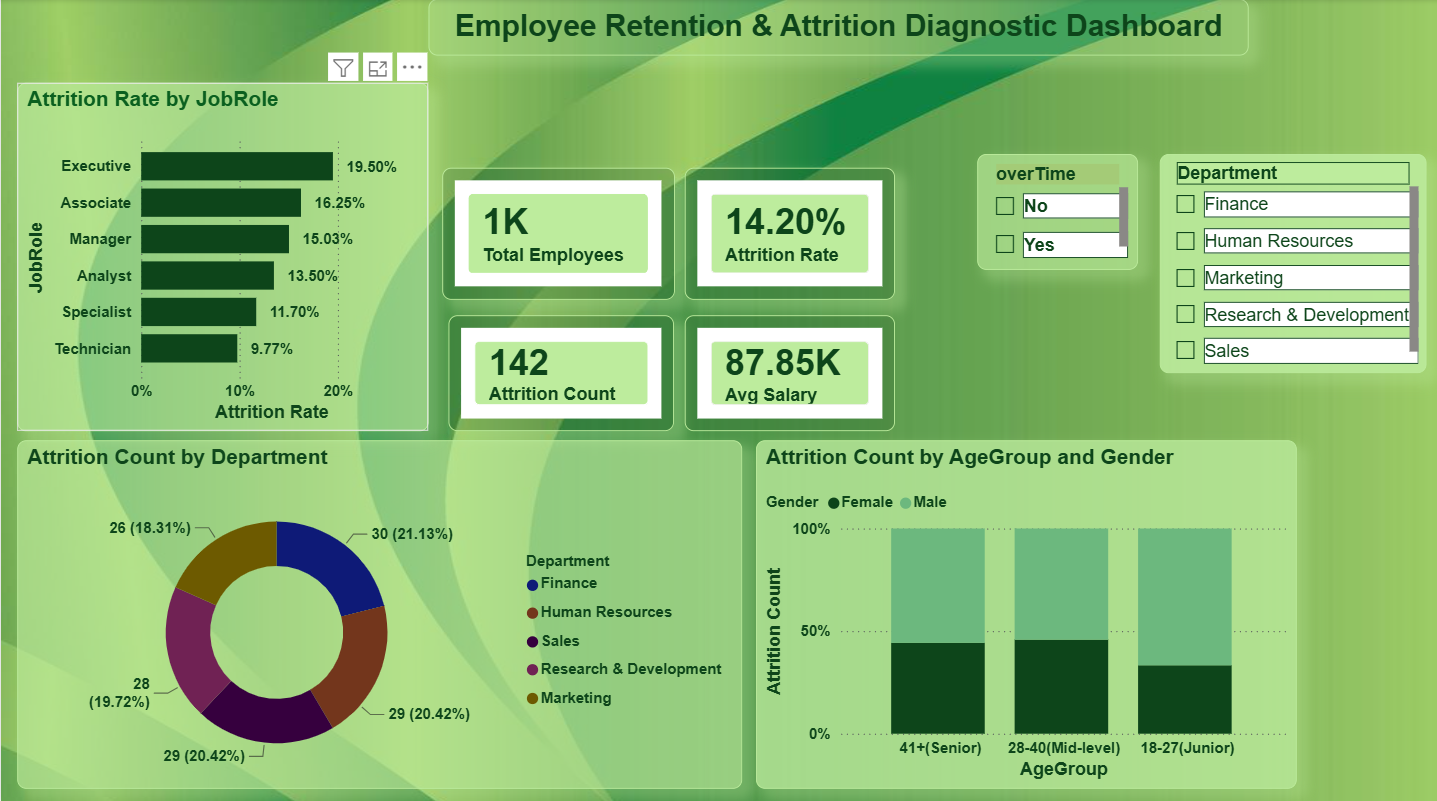

The dashboard page shown, as its layout file describes it:
{"tool":"powerbi","page":{"name":"Page 1","canvas":[1280,720],"ordinal":0},"visuals":[{"type":"cardVisual","fields":{"Data":["HR_Attrition_Data.Total Employees"]},"box":[393,150,207,117.4],"z":0},{"type":"cardVisual","fields":{"Data":["HR_Attrition_Data.Attrition Count"]},"box":[398.8,281.4,201.2,103.5],"z":1000},{"type":"cardVisual","fields":{"Data":["HR_Attrition_Data.Attrition Rate"]},"box":[609.3,150,187.2,117.4],"z":2000},{"type":"cardVisual","fields":{"Data":["HR_Attrition_Data.Avg Salary"]},"box":[609.3,281.4,187.2,103.5],"z":3000},{"type":"donutChart","fields":{"Category":["HR_Attrition_Data.Department"],"Y":["HR_Attrition_Data.Attrition Count"]},"box":[14,393,645.4,310.5],"z":4000},{"type":"clusteredBarChart","fields":{"Category":["HR_Attrition_Data.JobRole"],"Y":["HR_Attrition_Data.Attrition Rate"]},"box":[14,74.4,366.3,310.5],"z":5000},{"type":"hundredPercentStackedColumnChart","fields":{"Category":["HR_Attrition_Data.AgeGroup"],"Y":["HR_Attrition_Data.Attrition Count"],"Series":["HR_Attrition_Data.Gender"]},"box":[672.1,393,481.4,310.5],"z":6000},{"type":"slicer","fields":{"Values":["HR_Attrition_Data.Department"]},"box":[1031.4,138.4,237.2,195.3],"z":7000},{"type":"slicer","fields":{"Values":["HR_Attrition_Data.overTime"]},"box":[869.8,138.4,143,103.5],"z":8000},{"type":"textbox","box":[380.2,0,730.2,50],"z":9000}]}

Visuals, with their boxes in screenshot pixels (x1, y1, x2, y2), scaled from the page's 1280x720 canvas onto the 1437x801 screenshot:
cardVisual - HR_Attrition_Data.Total Employees: pyautogui.locateOnScreen(441, 167, 674, 297)
cardVisual - HR_Attrition_Data.Attrition Count: pyautogui.locateOnScreen(448, 313, 674, 428)
cardVisual - HR_Attrition_Data.Attrition Rate: pyautogui.locateOnScreen(684, 167, 894, 297)
cardVisual - HR_Attrition_Data.Avg Salary: pyautogui.locateOnScreen(684, 313, 894, 428)
donutChart - HR_Attrition_Data.Department x HR_Attrition_Data.Attrition Count: pyautogui.locateOnScreen(16, 437, 740, 783)
clusteredBarChart - HR_Attrition_Data.JobRole x HR_Attrition_Data.Attrition Rate: pyautogui.locateOnScreen(16, 83, 427, 428)
hundredPercentStackedColumnChart - HR_Attrition_Data.AgeGroup x HR_Attrition_Data.Attrition Count: pyautogui.locateOnScreen(755, 437, 1295, 783)
slicer - HR_Attrition_Data.Department: pyautogui.locateOnScreen(1158, 154, 1424, 371)
slicer - HR_Attrition_Data.overTime: pyautogui.locateOnScreen(976, 154, 1137, 269)
textbox: pyautogui.locateOnScreen(427, 0, 1247, 56)
